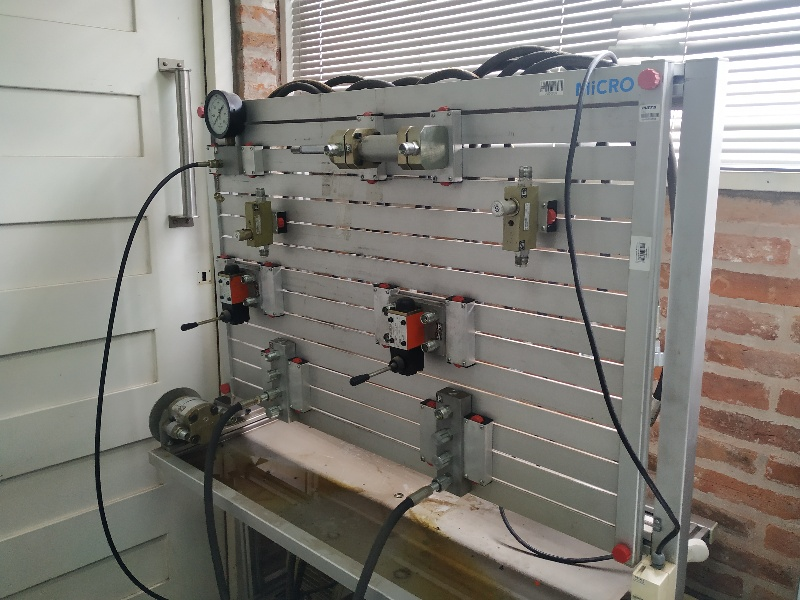Tablero 5: (202, 97, 666, 541)
